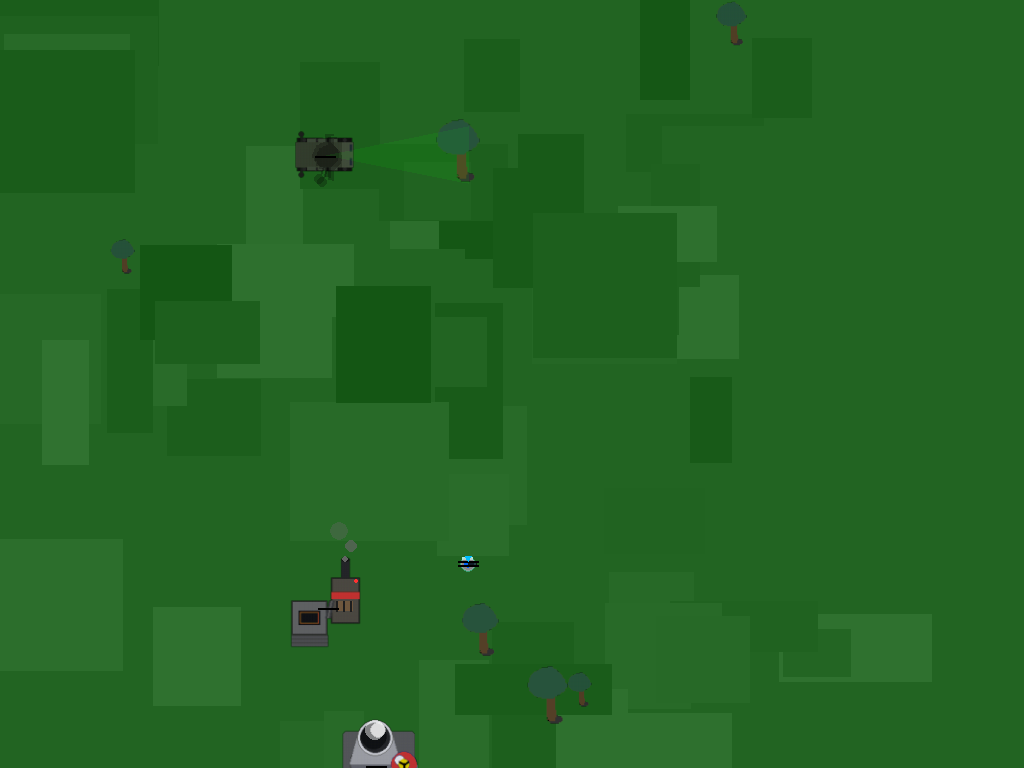MiningRig: (285, 564, 369, 648)
PowerPlant: (345, 734, 407, 768)
RadarBuilding: (290, 120, 360, 190)
Shotgunner: (453, 550, 482, 579)
